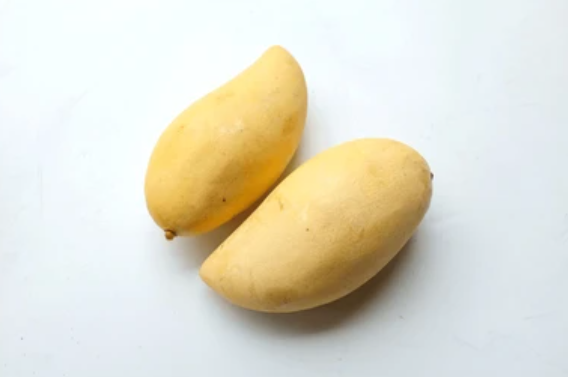mango: (198, 134, 432, 314), (143, 46, 307, 237)
